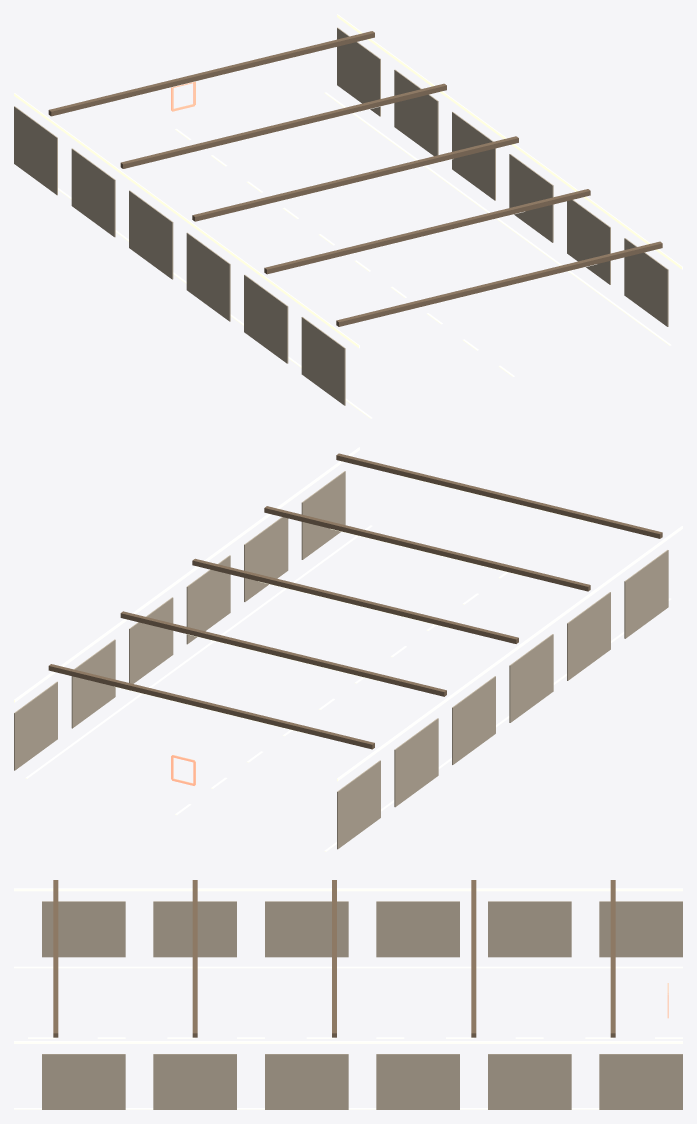
Rendered from range-cover-peek.glb.
3 views of the same model, one above another, from view 1: azimuth 30°, elevation 25°; view 2: azimuth 150°, elevation 25°; view 3: azimuth 270°, elevation 25° (orthographic). The views are drawn at different scales.
Parts seen in each view (by area): view 1: Panel-1_1, Panel-1_2, Panel-1_4, Panel-1_3, Panel-1_5, Panel-1_0, Beam4, Beam0, Beam2, Beam3, Beam1, Panel1_5 (+8 smaller); view 2: Panel-1_1, Panel-1_3, Panel-1_5, Panel-1_0, Panel1_0, Panel-1_2, Panel-1_4, Beam1, Beam2, Beam4, Beam0, Beam3 (+8 smaller); view 3: Panel-1_1, Panel-1_2, Panel1_0, Panel1_1, Panel1_2, Panel1_3, Panel1_4, Panel1_5, Panel-1_0, Panel-1_4, Panel-1_5, Panel-1_3 (+8 smaller).
Boxes of the visible parts, x1,y1,x2,y2 form: Panel-1_1: (71,148,115,237); Panel-1_2: (129,190,173,279); Panel-1_4: (244,274,288,363); Panel-1_3: (186,232,230,321); Panel-1_5: (301,317,345,405); Panel-1_0: (14,106,57,195); Beam4: (336,241,662,326); Beam0: (48,31,374,116); Beam2: (192,136,518,221); Beam3: (264,189,590,274); Beam1: (120,83,446,168); Panel1_5: (624,238,668,326); Panel-1_1: (394,718,438,807); Panel-1_3: (509,634,553,722); Panel-1_5: (624,550,668,638); Panel-1_0: (337,760,380,849); Panel1_0: (14,681,57,770); Panel-1_2: (452,676,495,764); Panel-1_4: (567,592,610,680); Beam1: (120,611,446,696); Beam2: (192,558,518,643); Beam4: (336,453,662,538); Beam0: (48,664,374,749); Beam3: (264,506,590,591); Panel-1_1: (488,901,571,957); Panel-1_2: (376,901,459,957); Panel1_0: (599,1054,682,1109); Panel1_1: (488,1054,571,1109); Panel1_2: (376,1054,459,1109); Panel1_3: (265,1054,348,1109); Panel1_4: (153,1054,236,1109); Panel1_5: (42,1054,125,1109); Panel-1_0: (599,901,682,957); Panel-1_4: (153,901,236,957); Panel-1_5: (42,901,125,957); Panel-1_3: (265,901,348,957).
Size of the model in its own units: 13 by 3.24 by 24.
